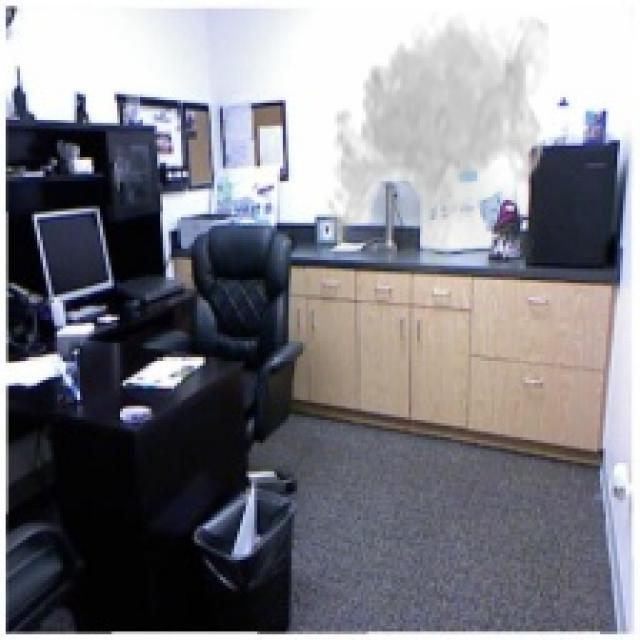Smoke: (321, 11, 548, 278)
